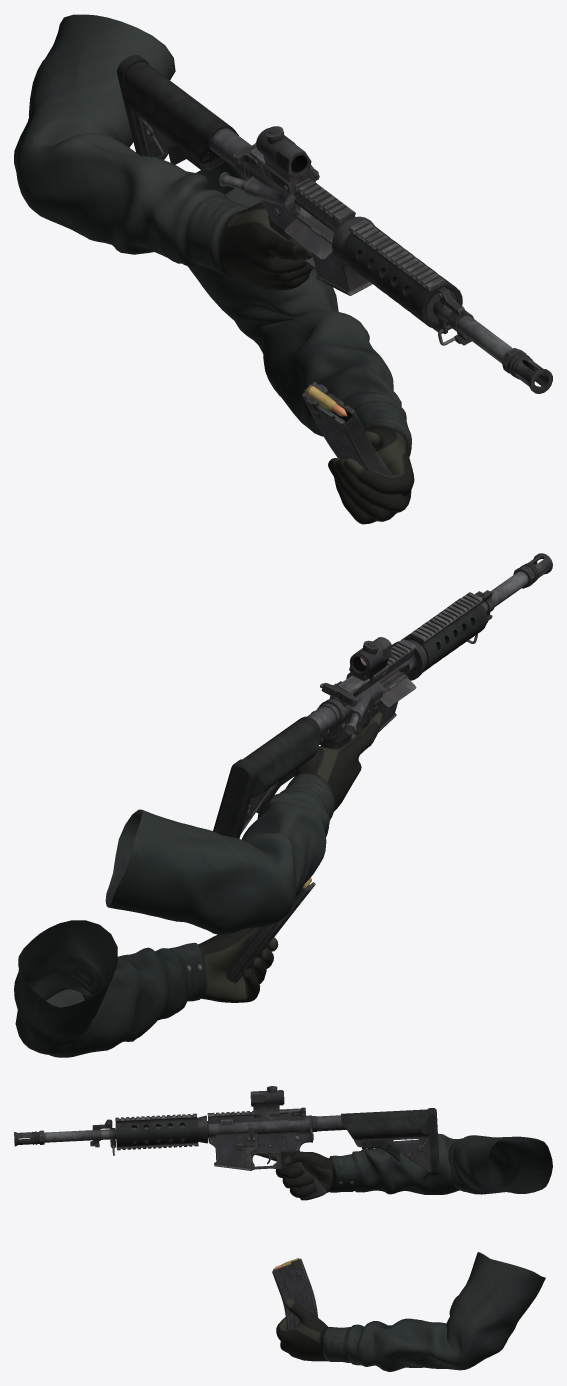
Rendered from gun_000024.obj.
3 renders of one model, top to bottom at view 1: azimuth 30°, elevation 25°; view 2: azimuth 150°, elevation 25°; view 3: azimuth 270°, elevation 25°, orthographic. The views are drawn at different scales.
Parts seen in each view (by area): view 1: armmesh_arms_0, base_carbine_0, clip_carbine_0, scope_carbine_0, lid_carbine_0; view 2: armmesh_arms_0, base_carbine_0, clip_carbine_0, scope_carbine_0; view 3: armmesh_arms_0, base_carbine_0, clip_carbine_0, scope_carbine_0.
Part boxes in pixels (x1,y1,x2,y2): armmesh_arms_0: [14, 14, 414, 524]; base_carbine_0: [117, 54, 552, 393]; clip_carbine_0: [302, 382, 392, 475]; scope_carbine_0: [256, 126, 319, 194]; lid_carbine_0: [285, 218, 332, 259]; armmesh_arms_0: [14, 712, 382, 1057]; base_carbine_0: [213, 553, 552, 838]; clip_carbine_0: [226, 882, 315, 983]; scope_carbine_0: [346, 637, 391, 685]; armmesh_arms_0: [255, 1133, 552, 1371]; base_carbine_0: [14, 1108, 439, 1200]; clip_carbine_0: [272, 1258, 318, 1329]; scope_carbine_0: [250, 1086, 284, 1117].
Bounding box in the file's own units: 47.92 × 63.27 × 129.
